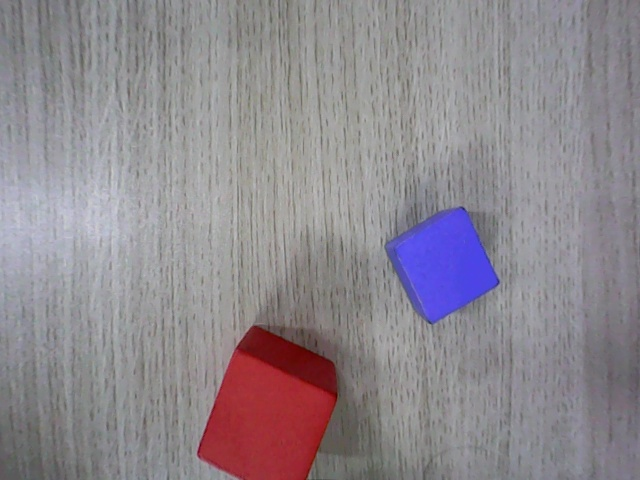upside of big cube: (196, 348, 338, 479)
upside of small cube: (394, 206, 500, 323)
